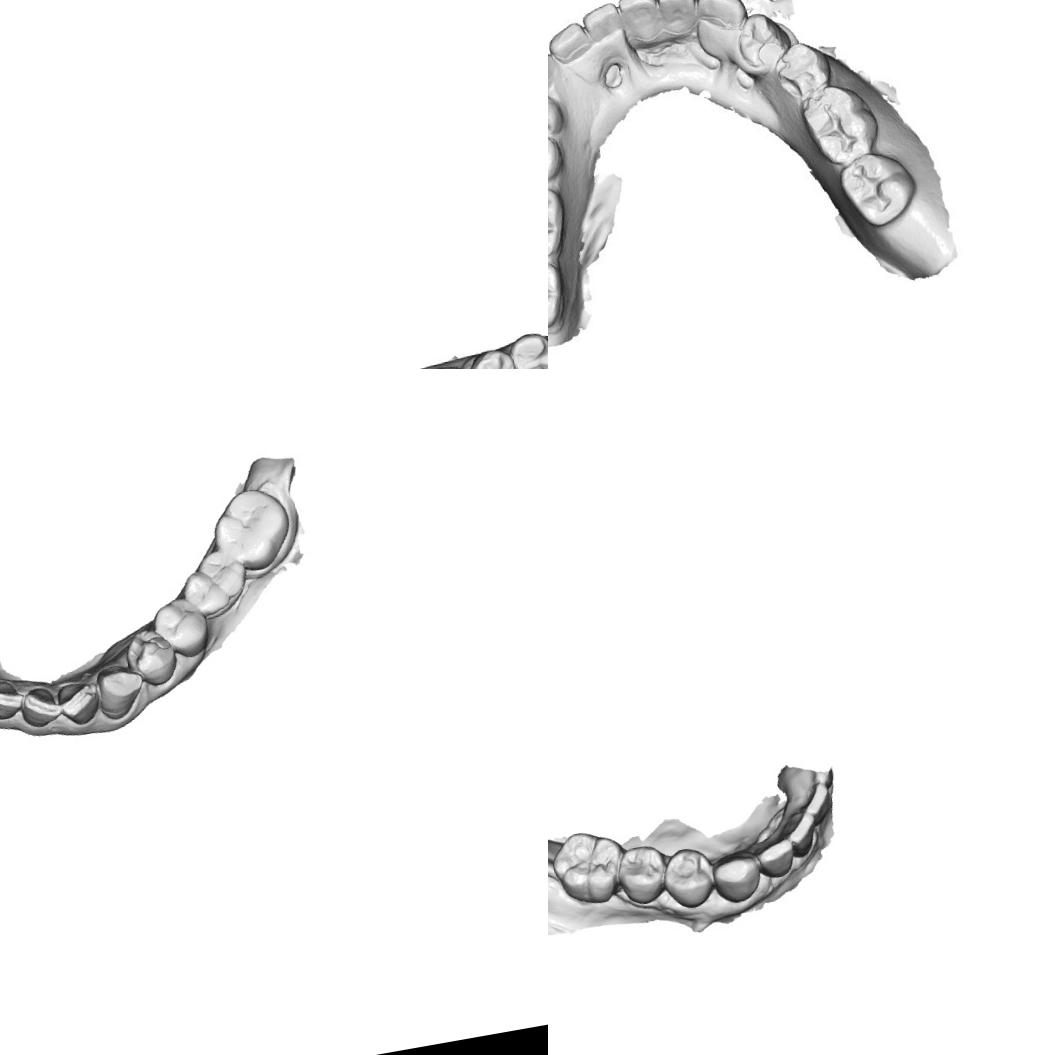canine: (92, 659, 149, 722), (708, 845, 766, 906), (693, 0, 749, 43), (548, 50, 582, 108)
incisor: (579, 0, 635, 73), (613, 0, 674, 66), (548, 16, 603, 82), (651, 0, 706, 53), (55, 677, 102, 729), (786, 780, 834, 830), (746, 836, 798, 882), (776, 809, 822, 860), (17, 683, 62, 731), (0, 676, 27, 723)
molar: (205, 482, 296, 575), (830, 148, 922, 236), (797, 78, 880, 170), (548, 824, 631, 911), (176, 545, 253, 620), (548, 252, 576, 338), (548, 176, 571, 266)
premolar: (149, 593, 213, 662), (657, 843, 718, 913), (768, 40, 834, 104), (611, 840, 670, 908), (120, 624, 180, 690), (734, 11, 788, 74), (508, 330, 548, 369), (548, 125, 568, 190), (469, 347, 522, 369), (548, 86, 563, 143)
